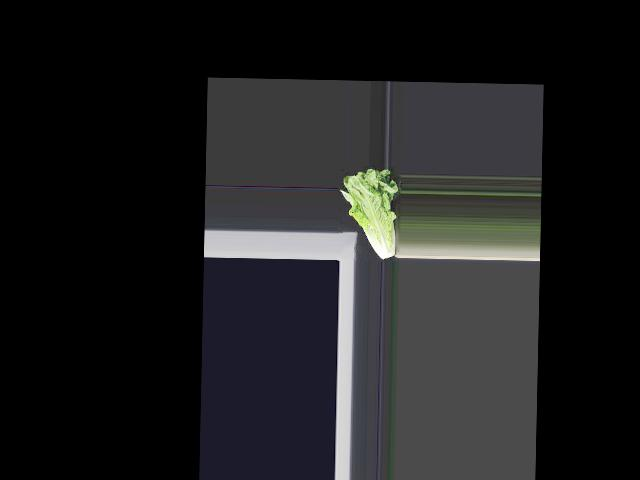lettuce: (339, 166, 398, 260)
